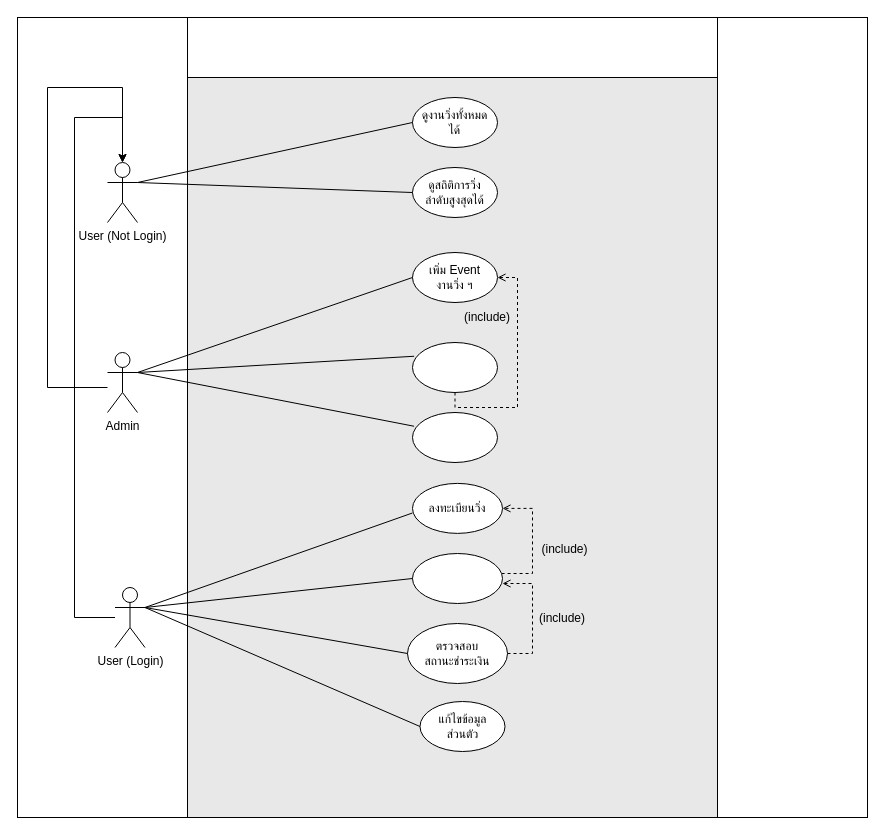
Some shapes in this 885 by 835 pixel diagram are drawn without their labels. Here are the shapes that lost their labels. From the top down, the centre of each, then its label:
At (x=452, y=47): "Rerun".
At (x=455, y=367): "เพิ่มข้อมูล การวิ่ง (สถิติ)".
At (x=455, y=437): "อัพเดทสถานะ การชำระเงิน".
At (x=457, y=578): "ชำระเงิน".
